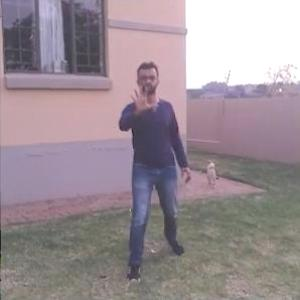follow_hand: (125, 77, 160, 116)
